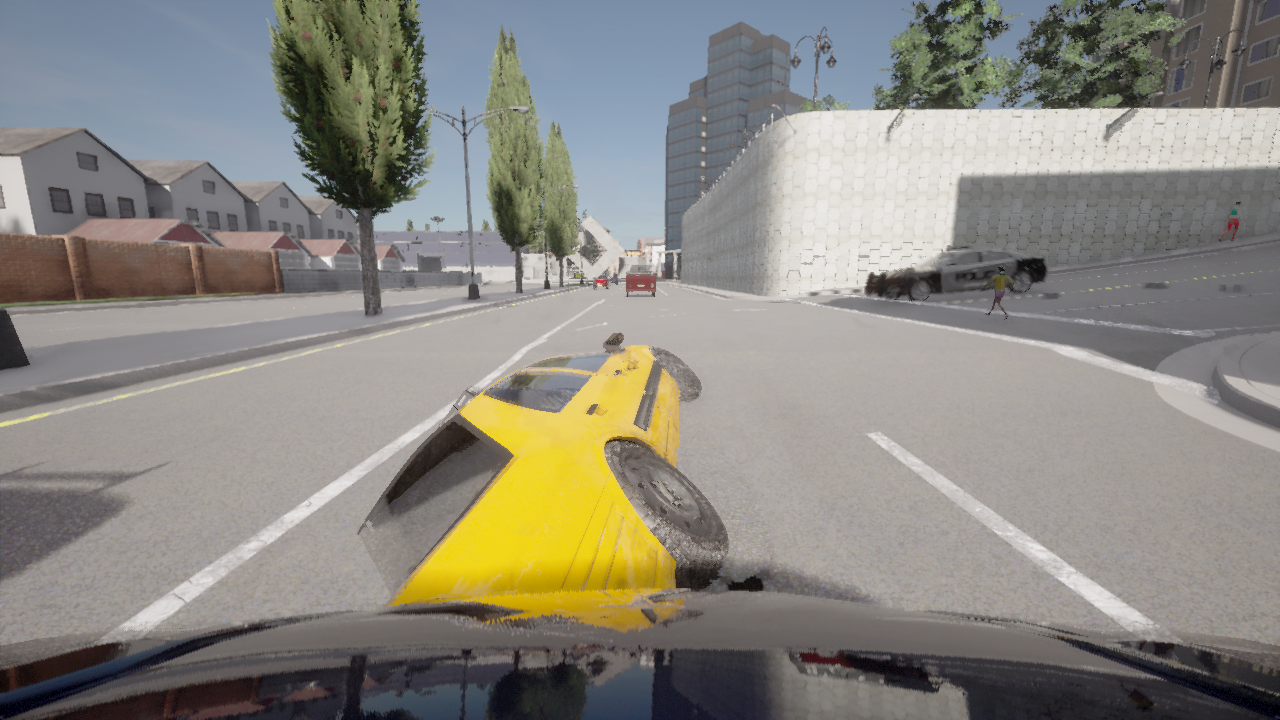cyclist: (0, 588, 1279, 719), (356, 332, 727, 608), (865, 245, 1047, 301), (624, 262, 656, 297), (593, 274, 608, 289), (606, 274, 618, 285)
pedestrian: (983, 265, 1013, 320), (1217, 201, 1241, 242)
